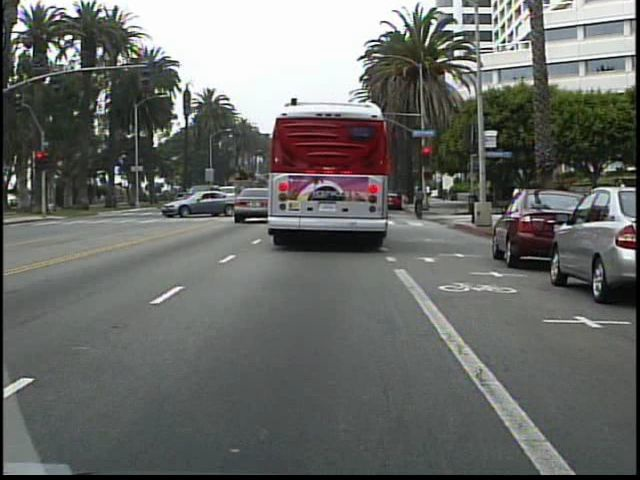person: (409, 182, 429, 217)
